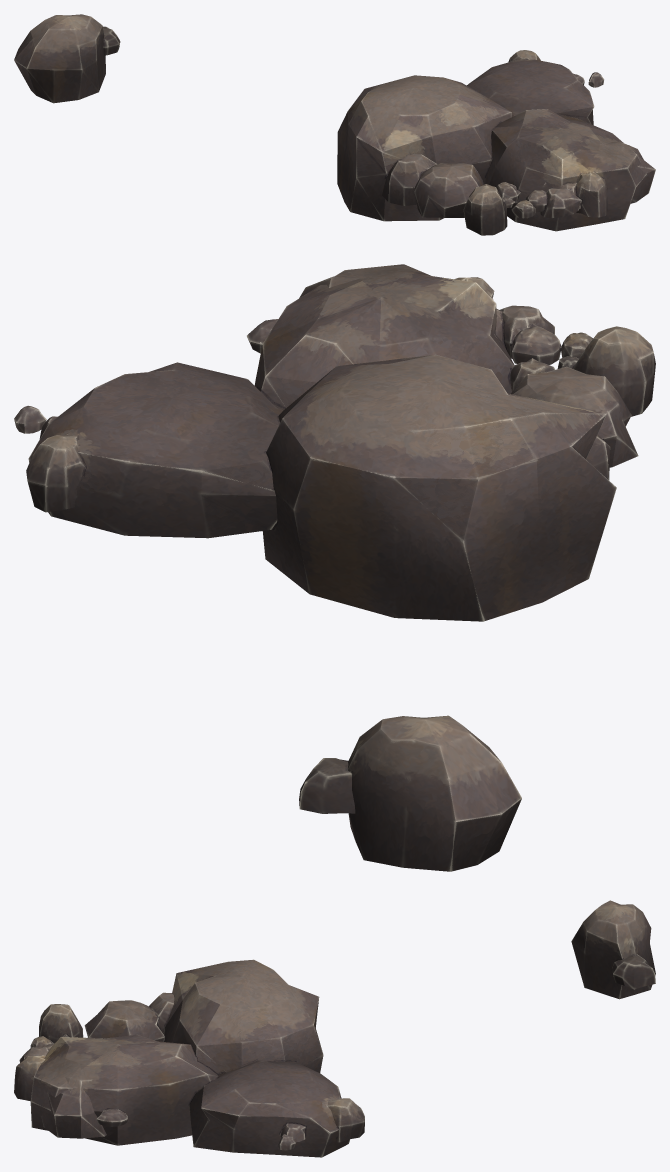
File: RoughRocks.glb
3 views of the same model, one above another, from view 1: azimuth 30°, elevation 25°; view 2: azimuth 150°, elevation 25°; view 3: azimuth 270°, elevation 25° (orthographic). The views are drawn at different scales.
Visible parts, largest first — view 1: Stones_-1_-2_0, Stones_-2_0_0, Stones_-1_-1_0_010, Stones_-1_-1_0_110, Stones_-1_-1_0_000_100, Stones_-1_-1_0_000_010, Stones_-1_-1_0_000_110, Stones_-2_-1_0, Stones_-1_-1_0_000_000, Stones_-1_-1_0_000_111, Stones_-1_-1_0_100_001, Stones_-1_-1_0_000_011 (+5 smaller); view 2: Stones_-1_-1_0_010, Stones_-1_-1_0_110, Stones_-2_1_0, Stones_-2_-1_0, Stones_-2_0_0, Stones_-1_-1_0_000_000, Stones_-1_-1_0_000_100, Stones_-1_-2_0, Stones_-1_-1_0_100_010, Stones_-1_-1_0_100_001, Stones_-1_0_0, Stones_-1_-1_0_100_011 (+5 smaller); view 3: Stones_-1_-1_0_110, Stones_-1_-1_0_010, Stones_-1_-1_0_100_110, Stones_-2_0_0, Stones_-1_-2_0, Stones_-1_-1_0_100_100, Stones_0_-1_0, Stones_-1_-1_0_100_010, Stones_-2_1_0, Stones_-1_-1_0_000_111, Stones_-1_-1_0_000_000, Stones_-1_-1_0_100_001 (+7 smaller).
Part boxes in pixels (x1,y1,x2,y2): Stones_-1_-2_0: (463, 141, 655, 235); Stones_-2_0_0: (14, 14, 120, 103); Stones_-1_-1_0_010: (337, 75, 510, 201); Stones_-1_-1_0_110: (467, 50, 594, 124); Stones_-1_-1_0_000_100: (472, 138, 562, 231); Stones_-1_-1_0_000_010: (382, 136, 452, 221); Stones_-1_-1_0_000_110: (431, 112, 521, 219); Stones_-2_-1_0: (344, 124, 388, 221); Stones_-1_-1_0_000_000: (414, 163, 490, 217); Stones_-1_-1_0_000_111: (428, 94, 511, 135); Stones_-1_-1_0_100_001: (543, 122, 599, 159); Stones_-1_-1_0_000_011: (382, 115, 431, 151); Stones_-1_-1_0_010: (262, 354, 606, 621); Stones_-1_-1_0_110: (28, 362, 333, 538); Stones_-2_1_0: (299, 729, 501, 871); Stones_-2_-1_0: (536, 414, 616, 602); Stones_-2_0_0: (318, 715, 521, 864); Stones_-1_-1_0_000_000: (527, 330, 645, 467); Stones_-1_-1_0_000_100: (427, 282, 577, 394); Stones_-1_-2_0: (345, 264, 655, 413); Stones_-1_-1_0_100_010: (262, 298, 426, 409); Stones_-1_-1_0_100_001: (318, 271, 475, 318); Stones_-1_0_0: (26, 444, 82, 512); Stones_-1_-1_0_100_011: (306, 297, 381, 345); Stones_-1_-1_0_110: (194, 1038, 352, 1157); Stones_-1_-1_0_010: (177, 959, 323, 1072); Stones_-1_-1_0_100_110: (117, 1064, 210, 1146); Stones_-2_0_0: (571, 900, 635, 999); Stones_-1_-2_0: (14, 1004, 86, 1137); Stones_-1_-1_0_100_100: (54, 1065, 127, 1145); Stones_0_-1_0: (233, 1116, 330, 1157); Stones_-1_-1_0_100_010: (118, 1034, 227, 1084); Stones_-2_1_0: (627, 904, 655, 994); Stones_-1_-1_0_000_111: (179, 983, 219, 1045); Stones_-1_-1_0_000_000: (60, 1000, 142, 1037); Stones_-1_-1_0_100_001: (61, 1037, 144, 1065).
Size of the model in its own units: 29.47 by 6.78 by 36.12.
Materials: 20 (20 with a texture image).
